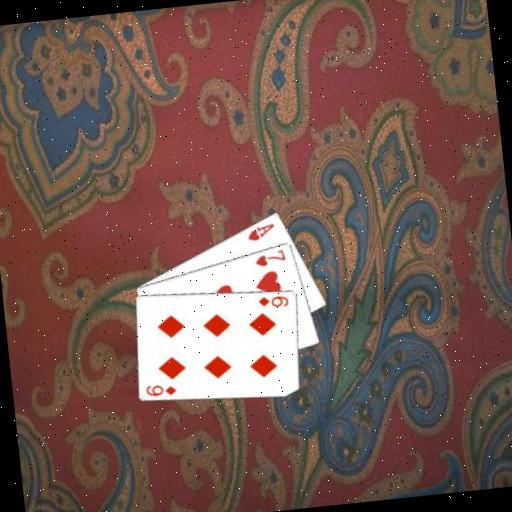6D: (255, 291, 291, 311), (143, 379, 179, 399)
7H: (251, 246, 288, 269)
AH: (244, 220, 278, 243)
